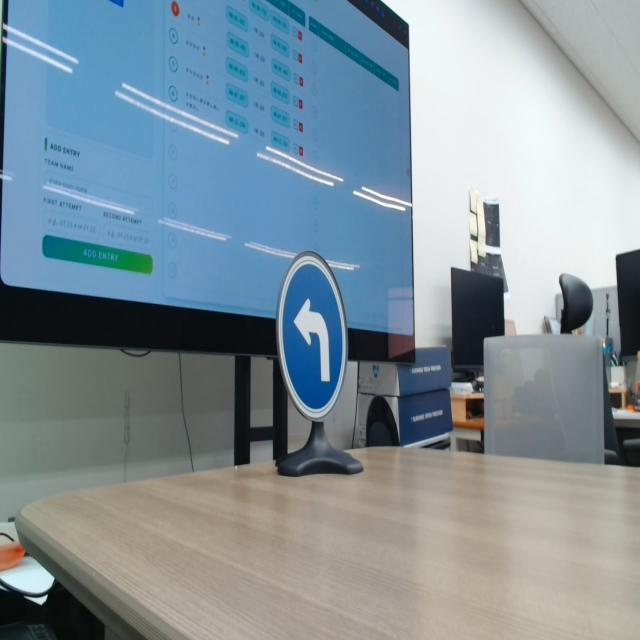left_direction: (276, 252, 351, 422)
